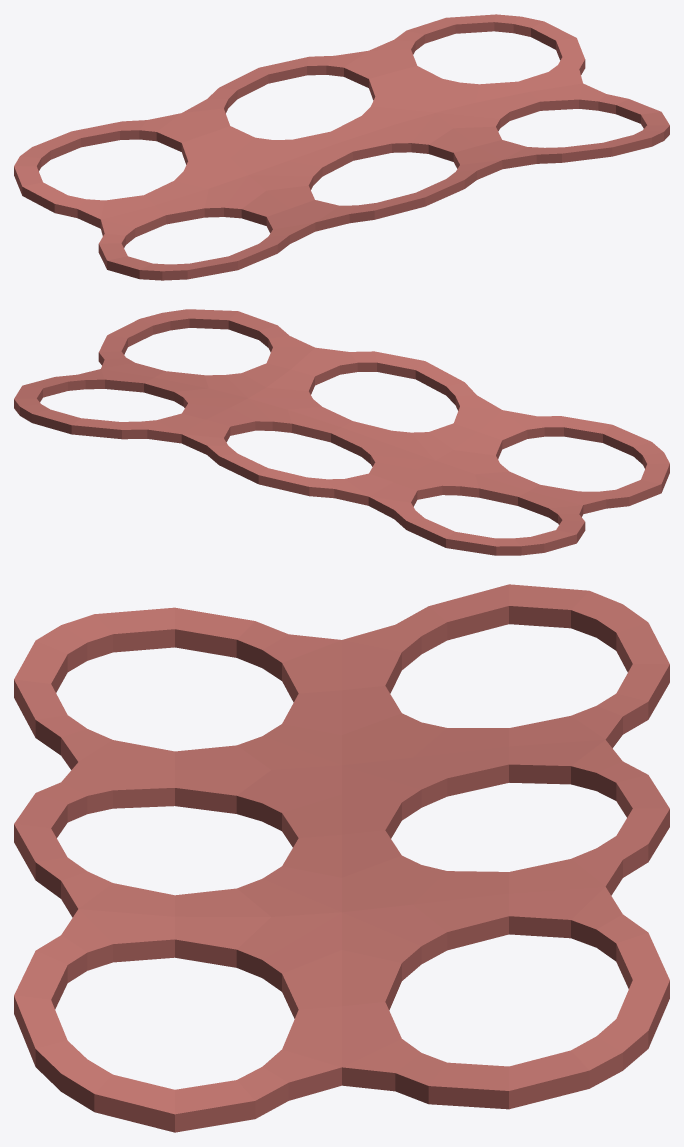
File: rescue_six_pack_rings.glb
3 renders of one model, top to bottom at view 1: azimuth 30°, elevation 25°; view 2: azimuth 150°, elevation 25°; view 3: azimuth 270°, elevation 25°, orthographic. The views are drawn at different scales.
Visible parts, largest first — view 1: rescue_six_pack_rings; view 2: rescue_six_pack_rings; view 3: rescue_six_pack_rings.
Part boxes in pixels (left/top/right/bottom): rescue_six_pack_rings: left=14, top=14, right=669, bottom=280; rescue_six_pack_rings: left=14, top=309, right=669, bottom=555; rescue_six_pack_rings: left=14, top=584, right=669, bottom=1132.
Bounding box in the file's own units: 0.5 × 0.0437 × 0.26.
